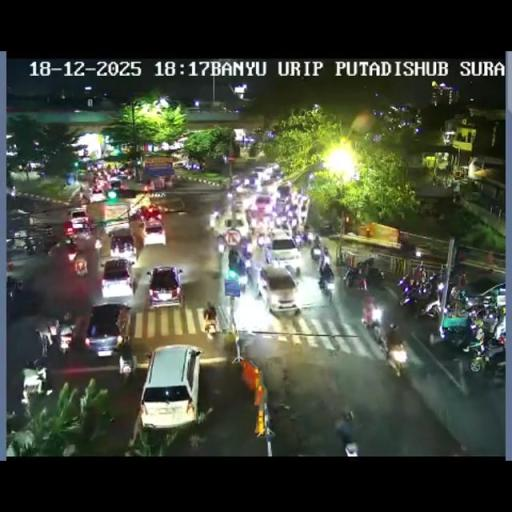Car: (138, 343, 200, 430), (83, 302, 131, 358), (258, 266, 300, 313), (146, 265, 183, 308), (266, 230, 302, 273), (100, 258, 134, 300), (226, 252, 250, 294), (108, 228, 136, 262), (140, 218, 166, 247), (225, 203, 247, 231), (67, 207, 91, 232), (63, 234, 82, 264), (140, 204, 162, 222), (254, 194, 272, 214), (276, 182, 292, 200), (90, 186, 106, 202), (253, 166, 268, 180), (269, 165, 283, 180), (320, 221, 335, 234), (109, 176, 122, 190), (248, 175, 258, 188)
Motorcycle: (400, 272, 442, 319), (466, 332, 505, 376), (439, 312, 476, 350), (20, 362, 49, 402), (382, 334, 409, 374), (334, 421, 358, 456), (45, 328, 67, 366), (277, 366, 296, 406), (342, 262, 368, 290), (462, 300, 488, 322), (361, 302, 381, 330), (448, 284, 470, 309), (118, 349, 136, 377), (491, 308, 506, 341), (40, 232, 62, 254), (6, 275, 24, 300), (319, 270, 334, 296), (269, 399, 291, 416), (274, 211, 291, 231), (203, 315, 218, 337), (24, 235, 38, 255), (74, 258, 88, 277), (453, 270, 467, 288), (239, 240, 251, 261), (292, 231, 305, 249), (285, 263, 297, 281), (216, 234, 226, 254), (310, 245, 322, 261), (209, 211, 217, 230), (306, 230, 314, 245), (80, 192, 89, 205)
